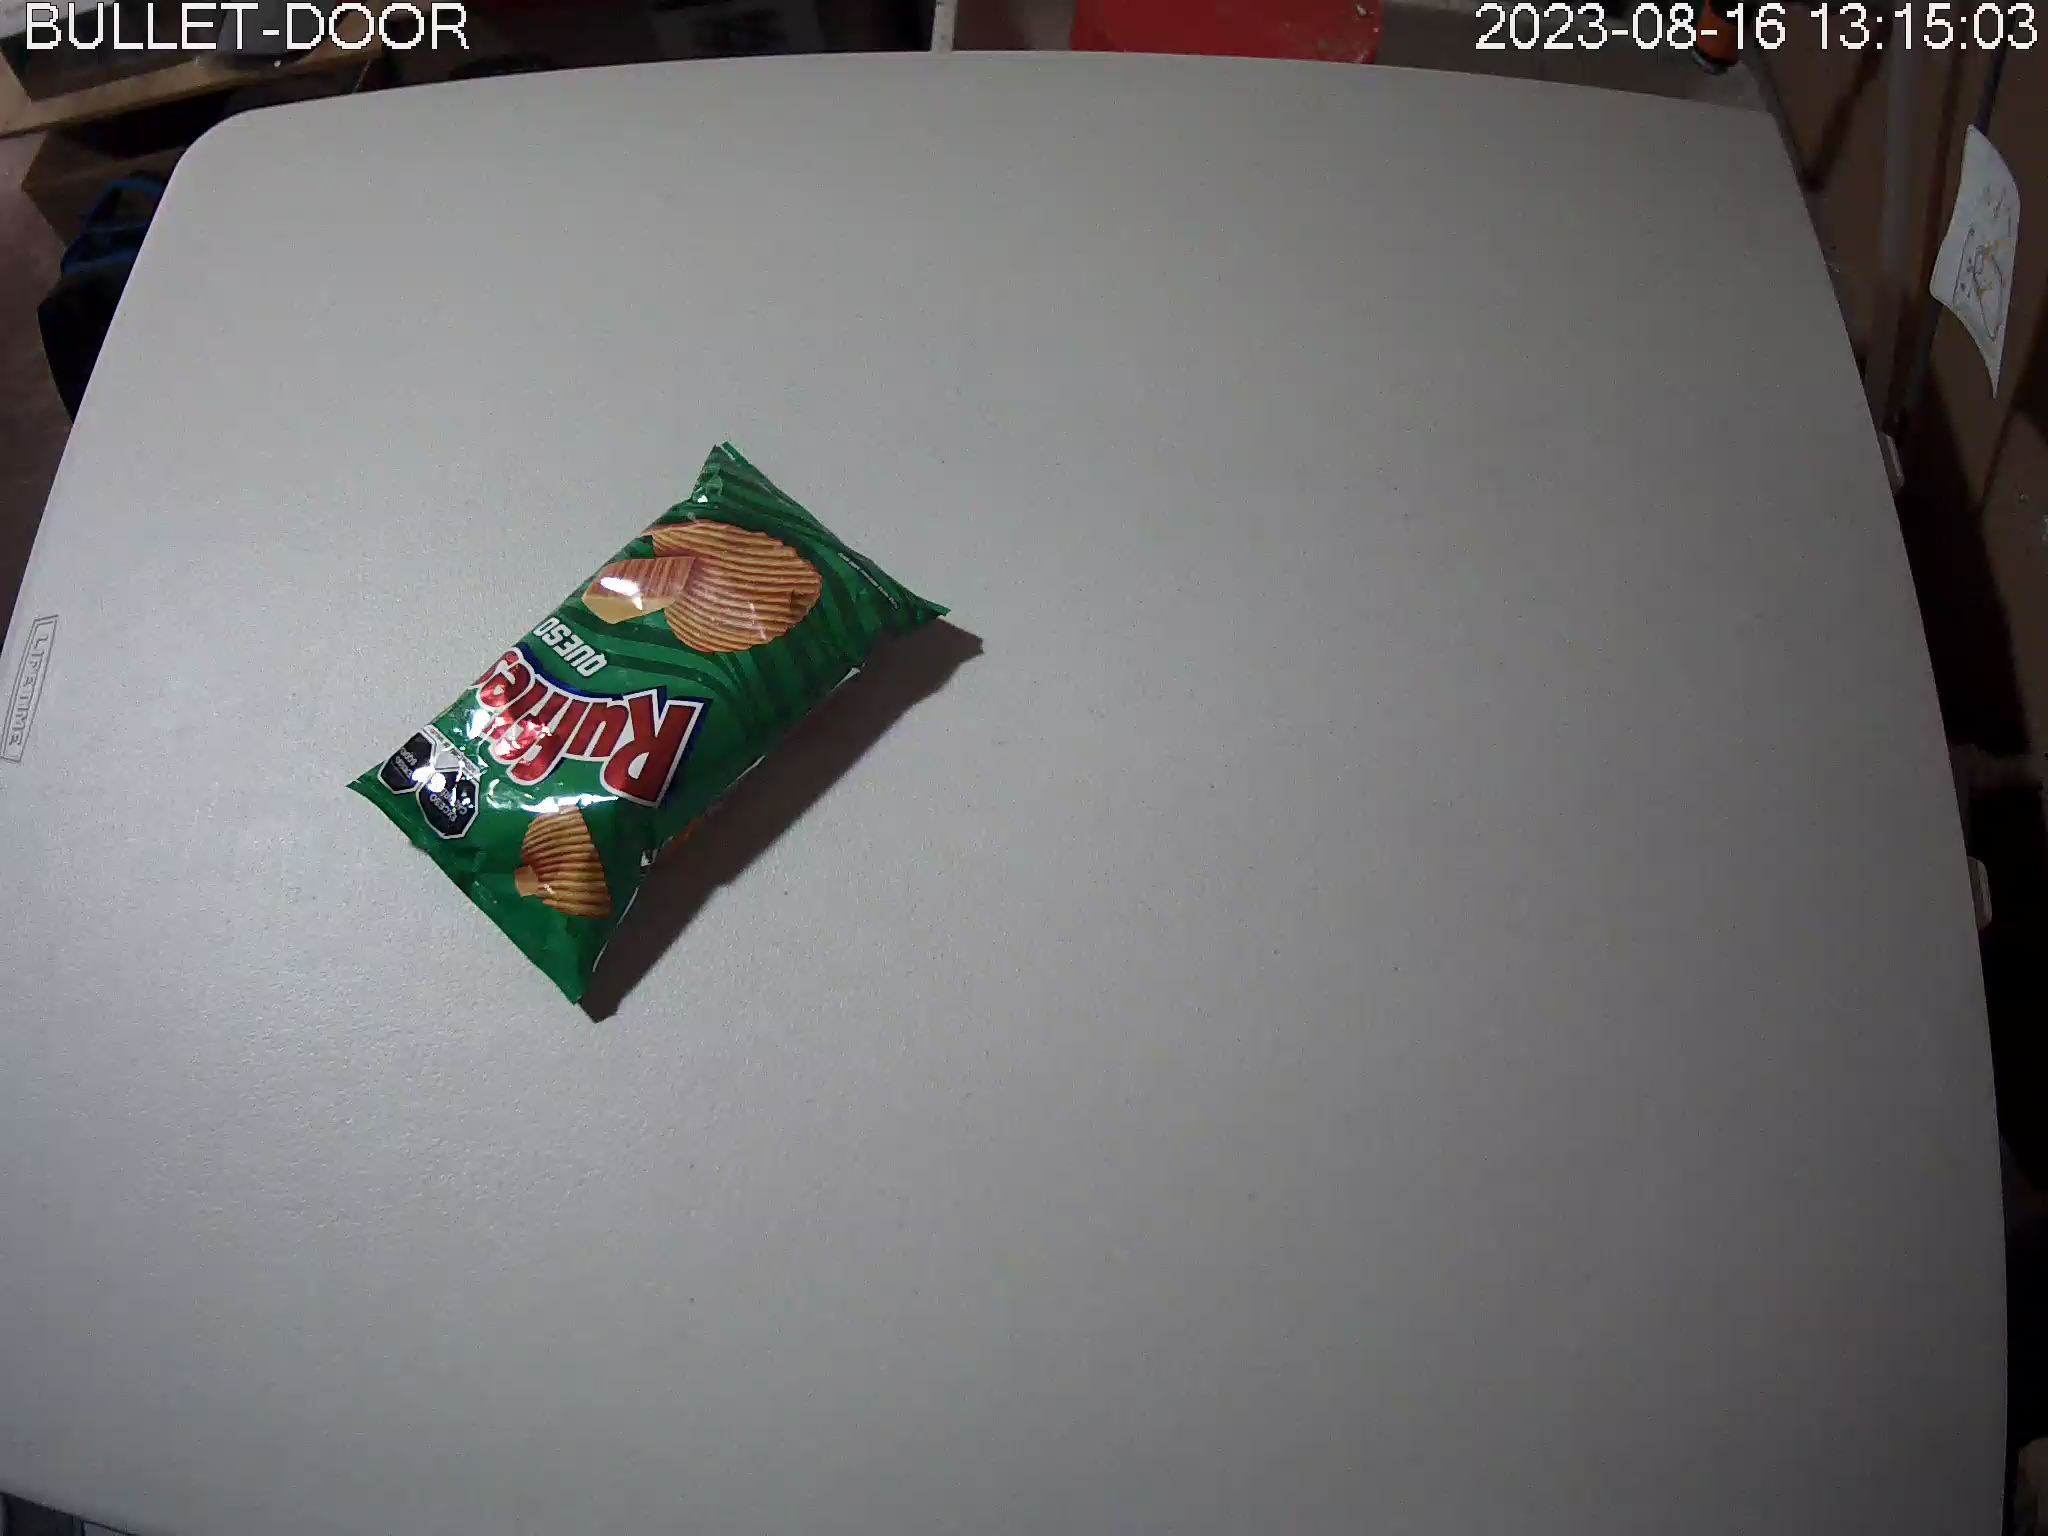RufflesQ_48_F: (347, 440, 953, 1007)
